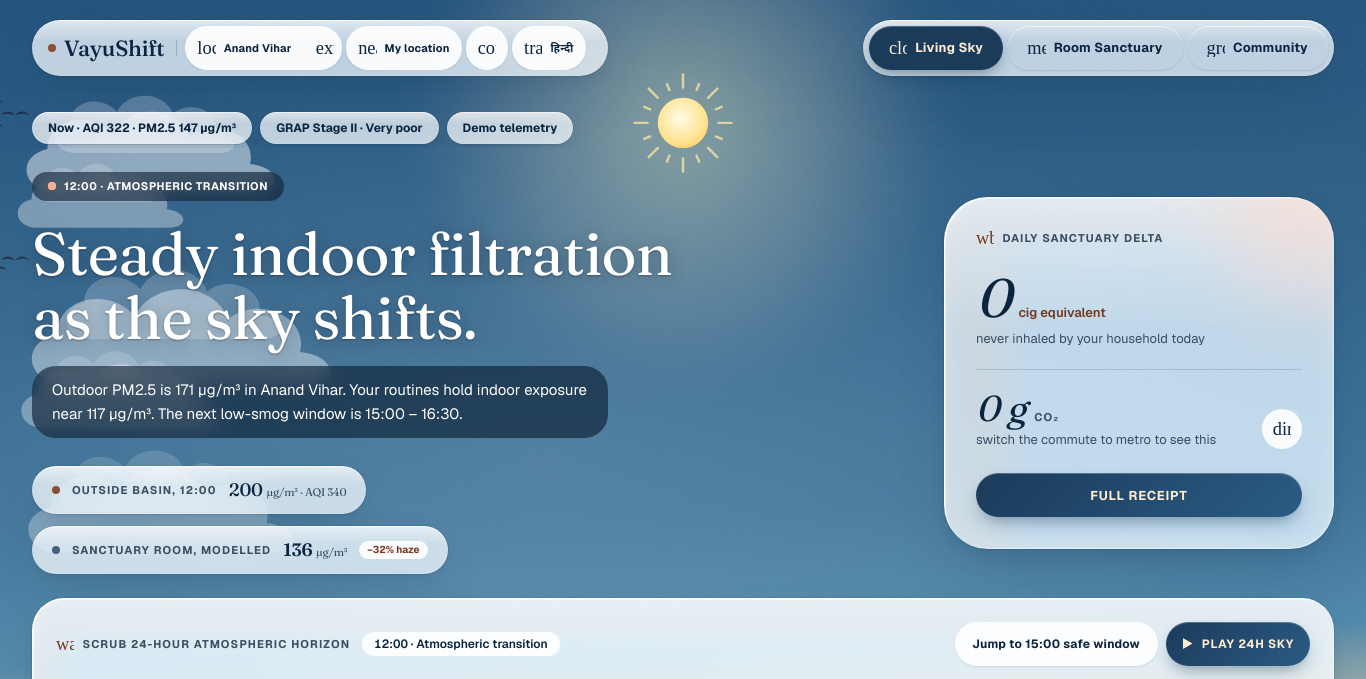
Test case: city picker › lists the cities and loads the live forecast for the one picked, not Delhi's
Select "Mumbai" in the dropdown named "City" at (266, 48), box [224,40,308,56]
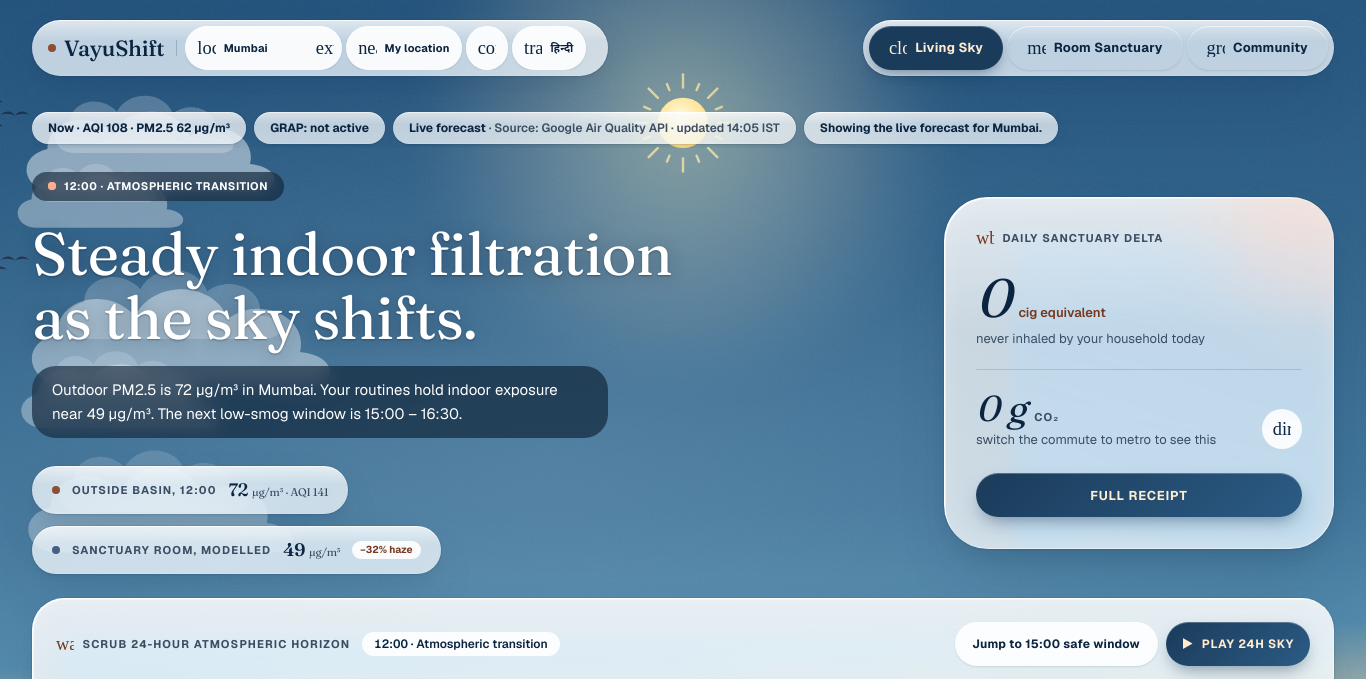
Expected: the text "Showing the live forecast for Mumbai." is shown, [804,112,1058,144]
